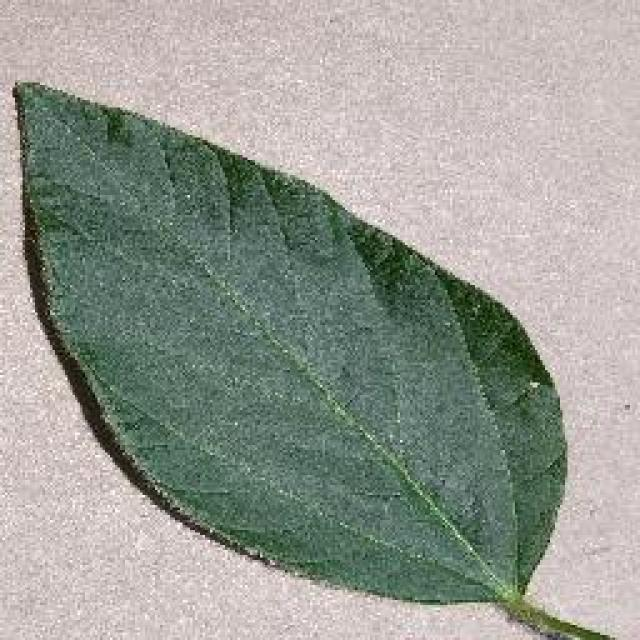Soy_healthy: (26, 137, 531, 538)
